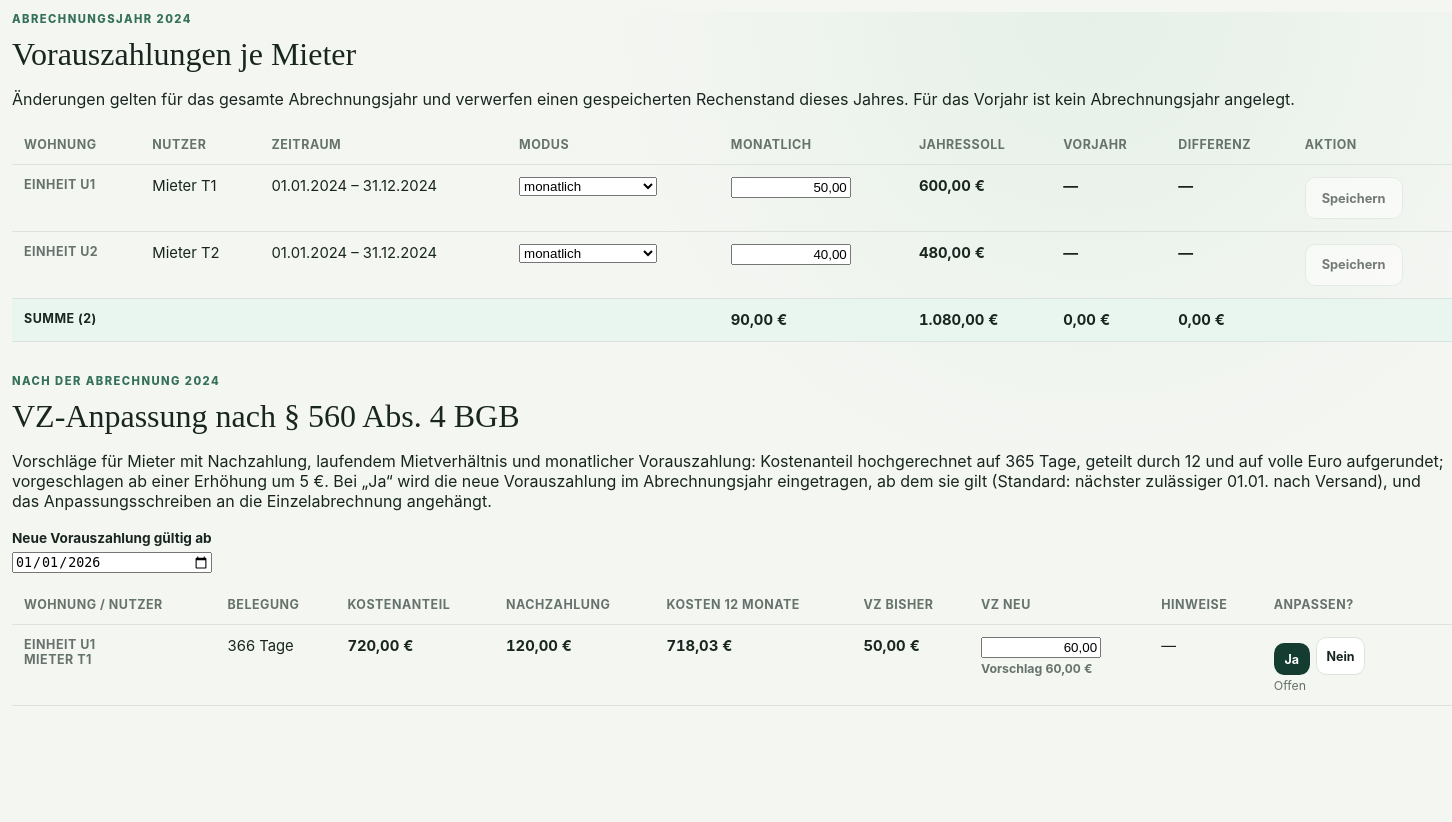
it: PrepaymentsRoute – Übersicht › speichert einen geänderten Monatsbetrag je Zeile
Expected: the button with aria-label "Vorauszahlung speichern Einheit u1 Mieter T1" is disabled, [1305, 177, 1402, 219]
Replace the text in the field named "Monatsbetrag Einheit u1 Mieter T1" with "55,50". click: (791, 188)
box: [731, 177, 851, 198]
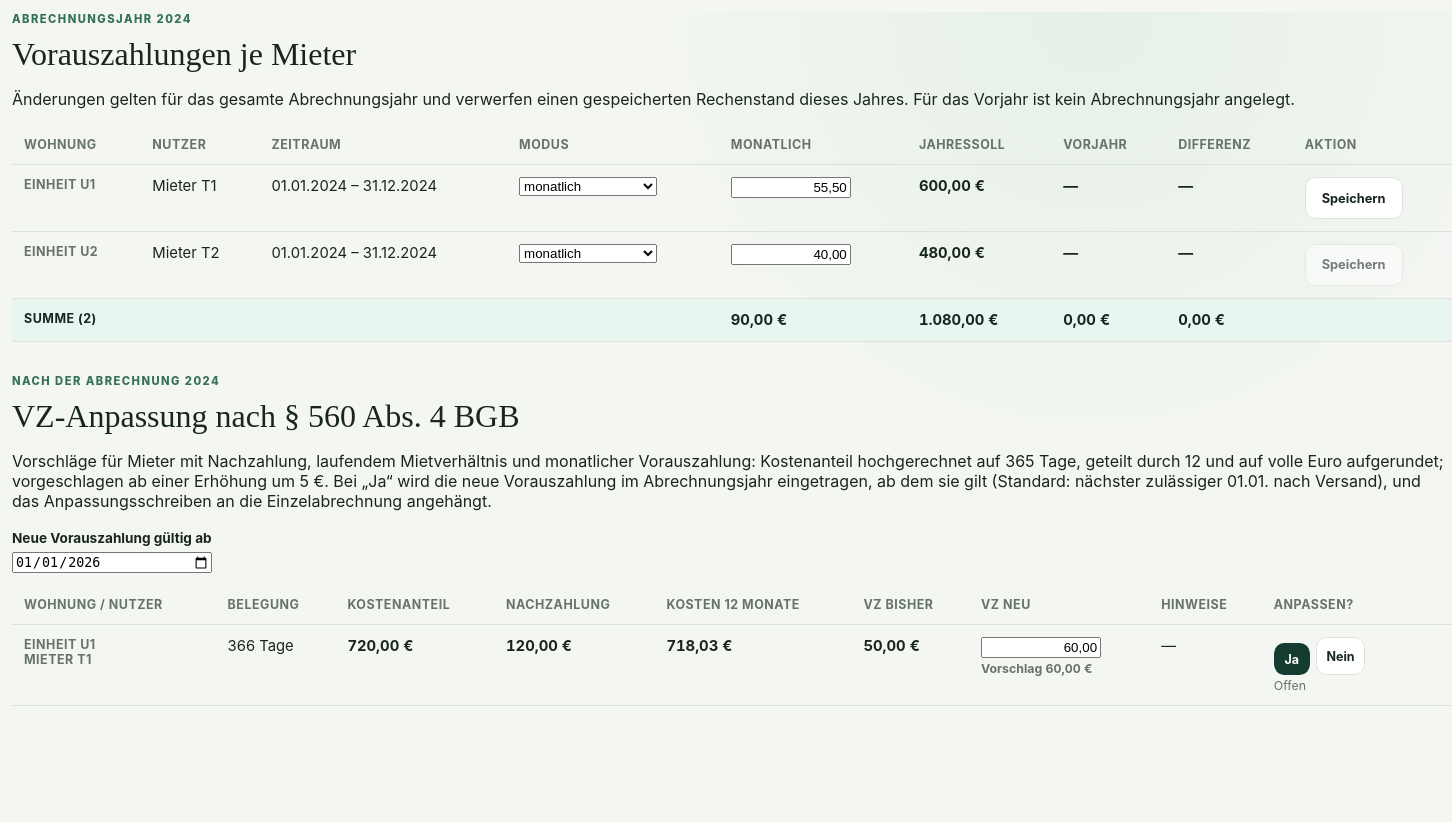
Click the button with aria-label "Vorauszahlung speichern Einheit u1 Mieter T1". click: (1354, 198)
box: [1305, 177, 1402, 219]
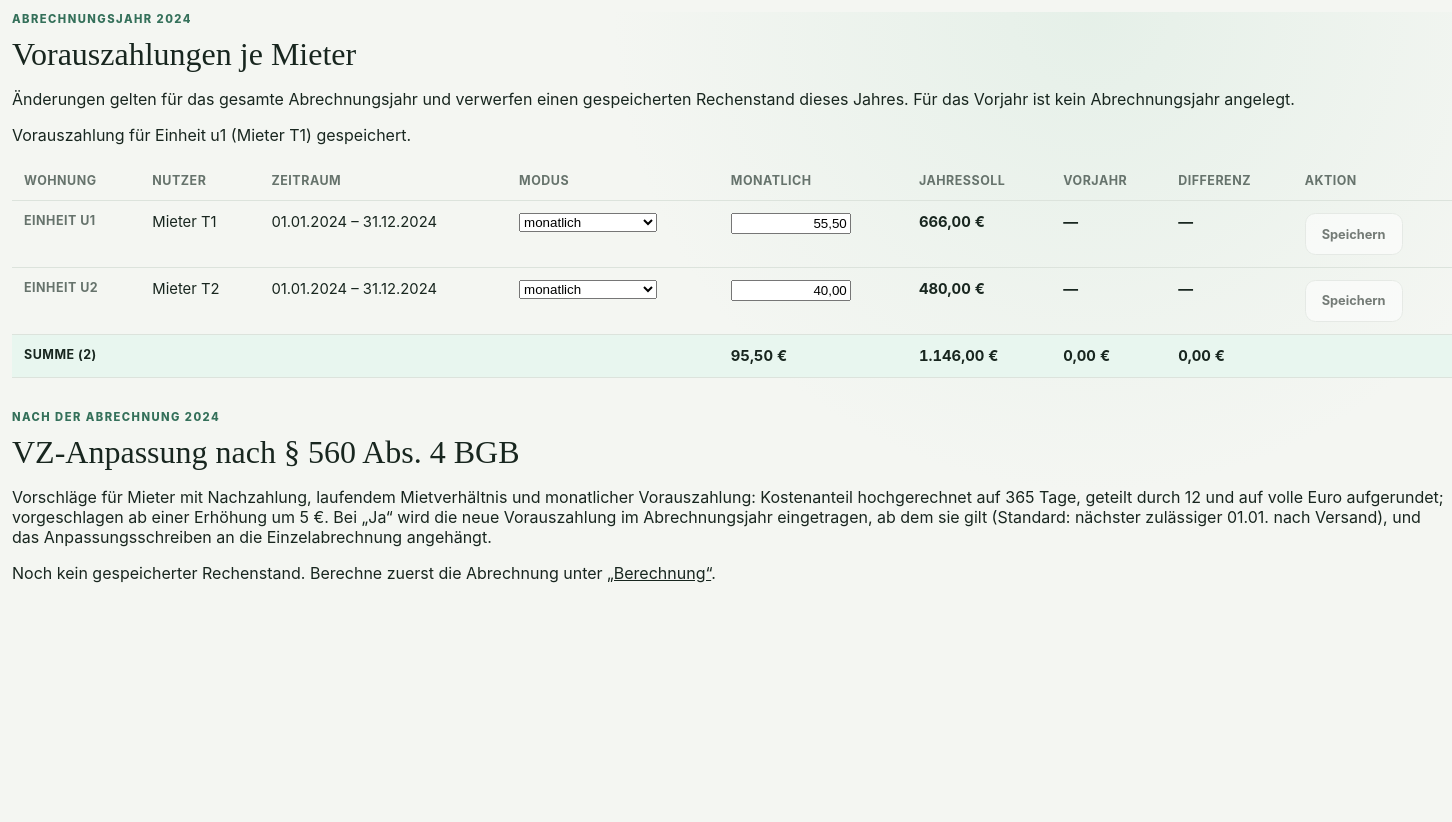
Expected: the message reads "Vorauszahlung für Einheit u1 (Mieter T1) gespeichert.", [12, 125, 411, 145]
Expected: the text "666,00 €" is shown, [907, 201, 1051, 268]
